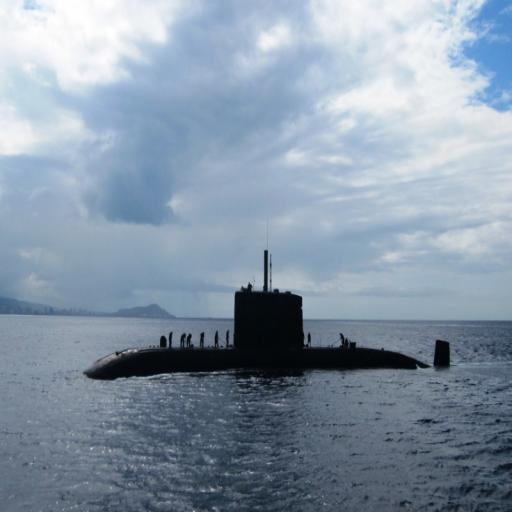submarine: (84, 251, 452, 380)
